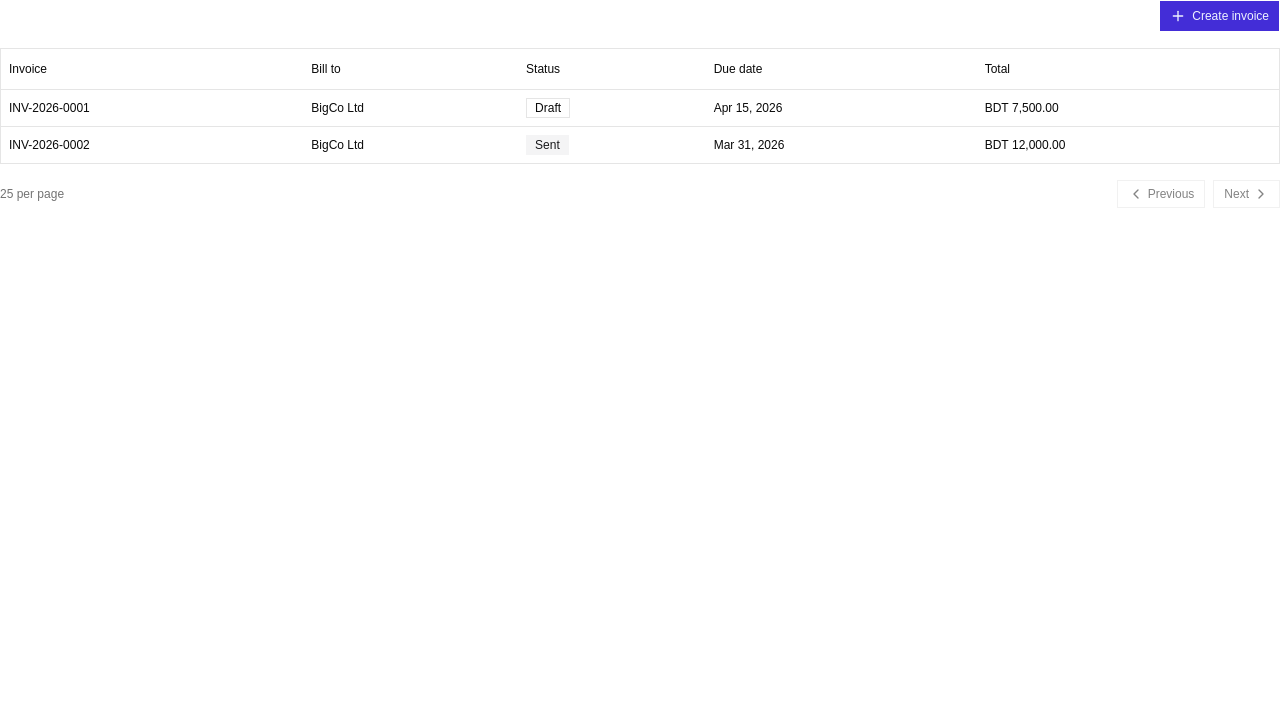
Scenario: ProjectInvoicesTab › opens create invoice dialog
The width and height of the screenshot is (1280, 720).
Click the button "Create invoice": (1220, 16) top-left (1159, 0), bottom-right (1279, 32)
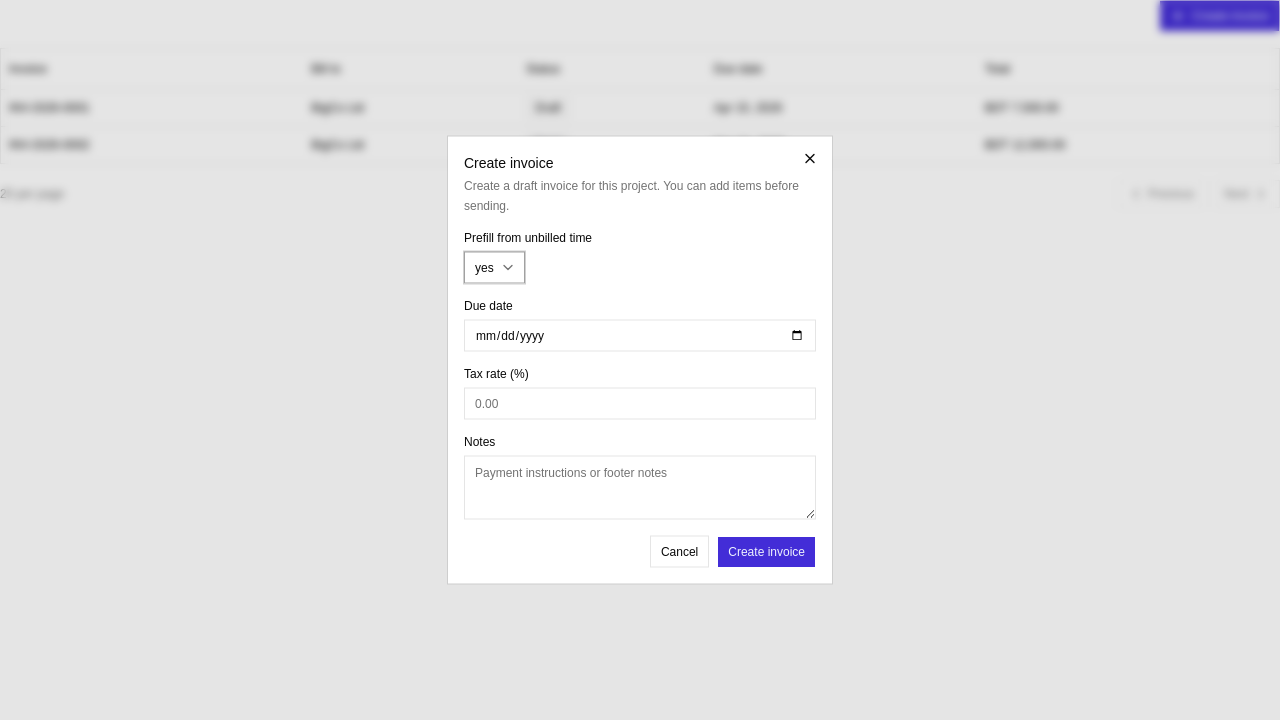
Expected: the heading "Create invoice" is shown, top-left (464, 154), bottom-right (554, 170)
